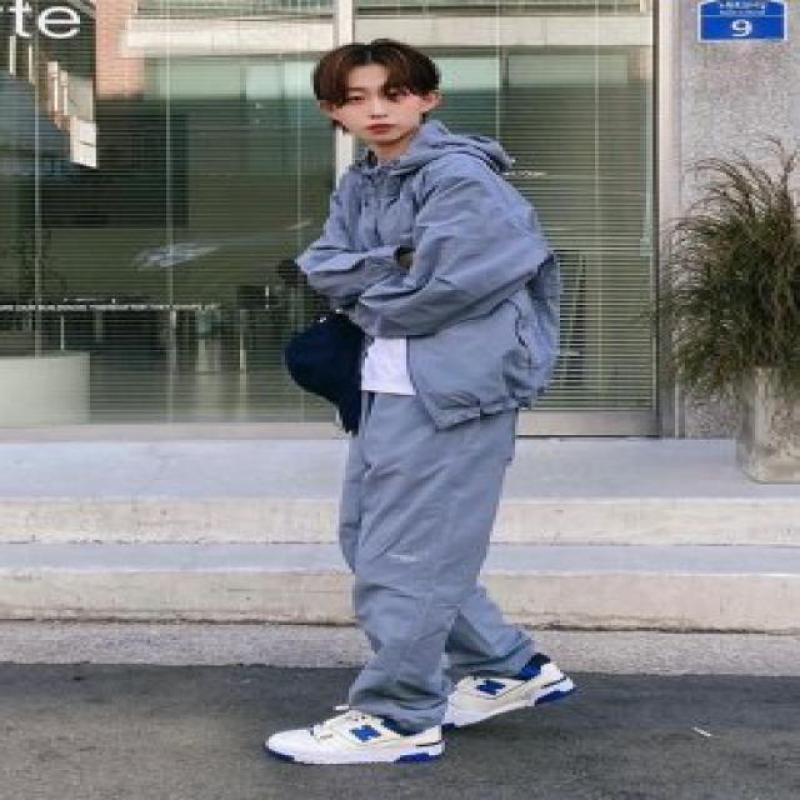jacket: (293, 119, 566, 431)
trousers: (335, 389, 534, 727)
